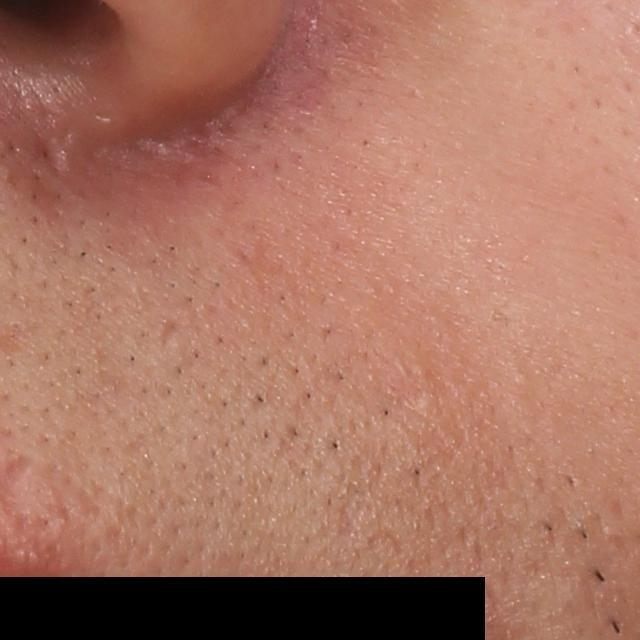atrophic_scar: (28, 130, 69, 179), (159, 319, 185, 350)
